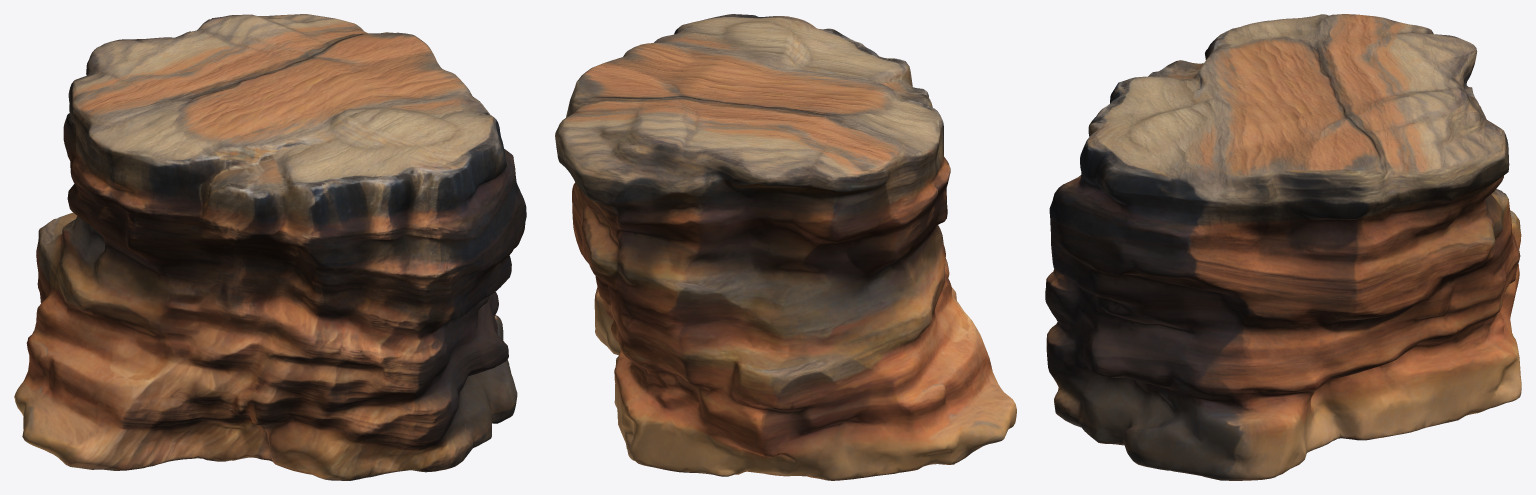
The model's file is AI_CliffRock.fbx.
3 views of the same model, side by side, from view 1: azimuth 30°, elevation 25°; view 2: azimuth 150°, elevation 25°; view 3: azimuth 270°, elevation 25° (orthographic). The views are drawn at different scales.
Parts seen in each view (by area): view 1: Mesh1.0; view 2: Mesh1.0; view 3: Mesh1.0.
Part boxes in pixels (x1=…): Mesh1.0: x1=14, y1=14, x2=526, y2=480; Mesh1.0: x1=555, y1=14, x2=1016, y2=480; Mesh1.0: x1=1045, y1=14, x2=1521, y2=480.
Size of the model in its own units: 200 by 135 by 187.
Materials: 1 (1 with a texture image).
